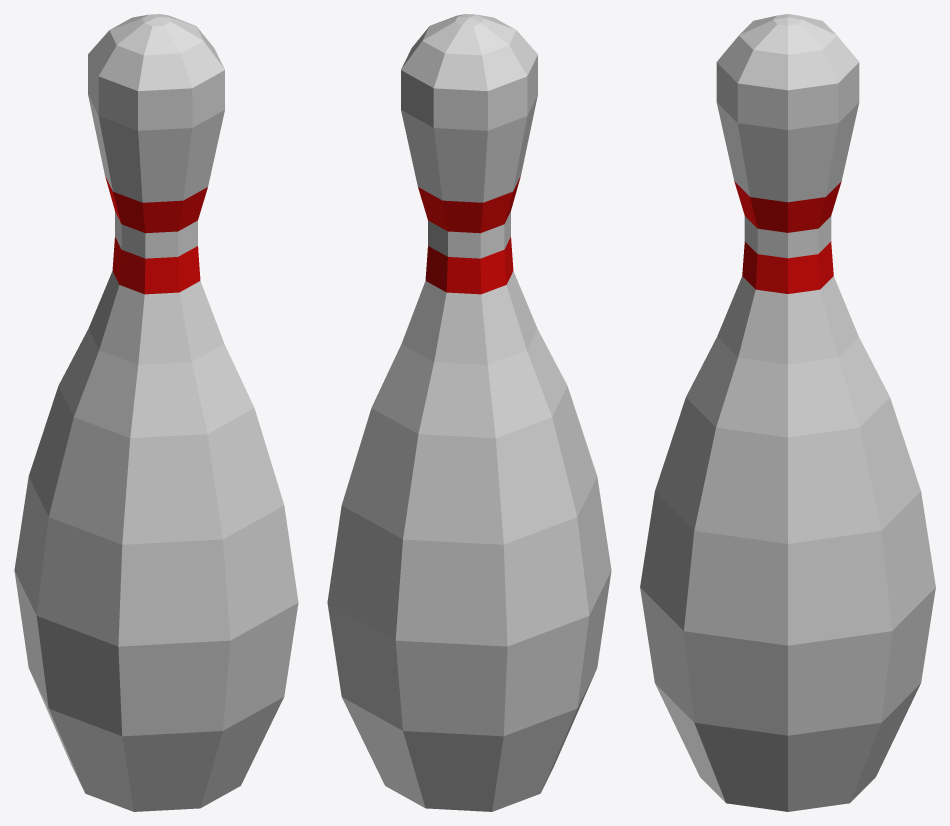
The model's file is pin (8).fbx.
3 views of the same model, side by side, from view 1: azimuth 30°, elevation 25°; view 2: azimuth 150°, elevation 25°; view 3: azimuth 270°, elevation 25° (orthographic).
Visible parts, largest first — view 1: Pin; view 2: Pin; view 3: Pin.
Part boxes in pixels (x1,y1,x2,y2): Pin: [14, 14, 298, 811]; Pin: [327, 14, 611, 811]; Pin: [640, 14, 935, 811].
Size of the model in its own units: 448 by 1355 by 478.
